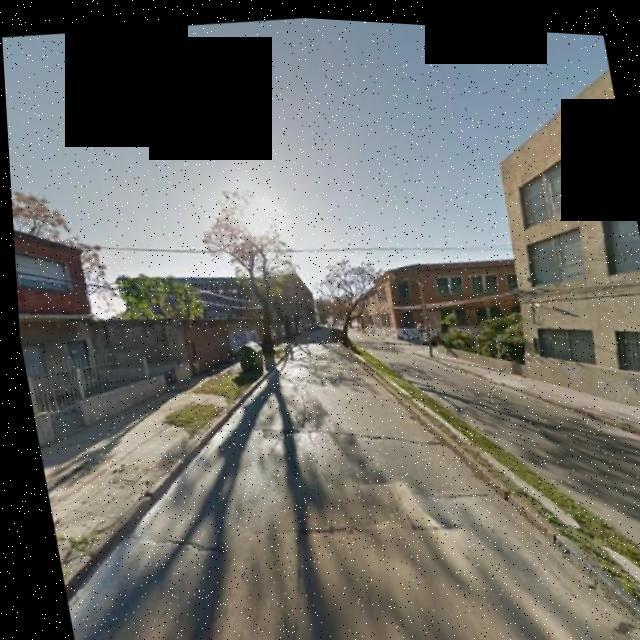bin: (220, 330, 268, 381)
